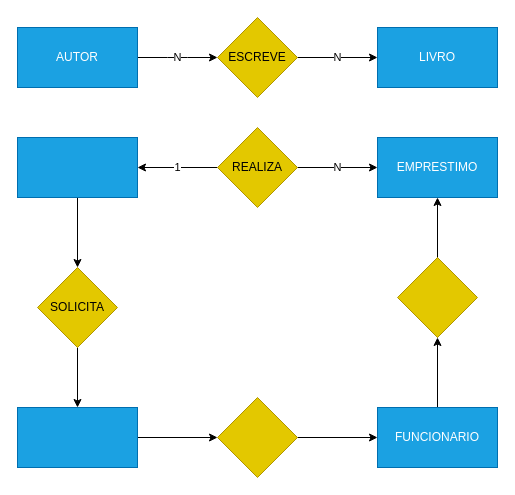
Image size: 515x495. Some labels were removed from this diagram. The centre of each missing label's shape, as x and y in pixels:
ALUNO: the point at 77,167
CONCLUIR: the point at 257,437
DEVOLUÇÃO: the point at 77,437
EFETUA: the point at 437,297
